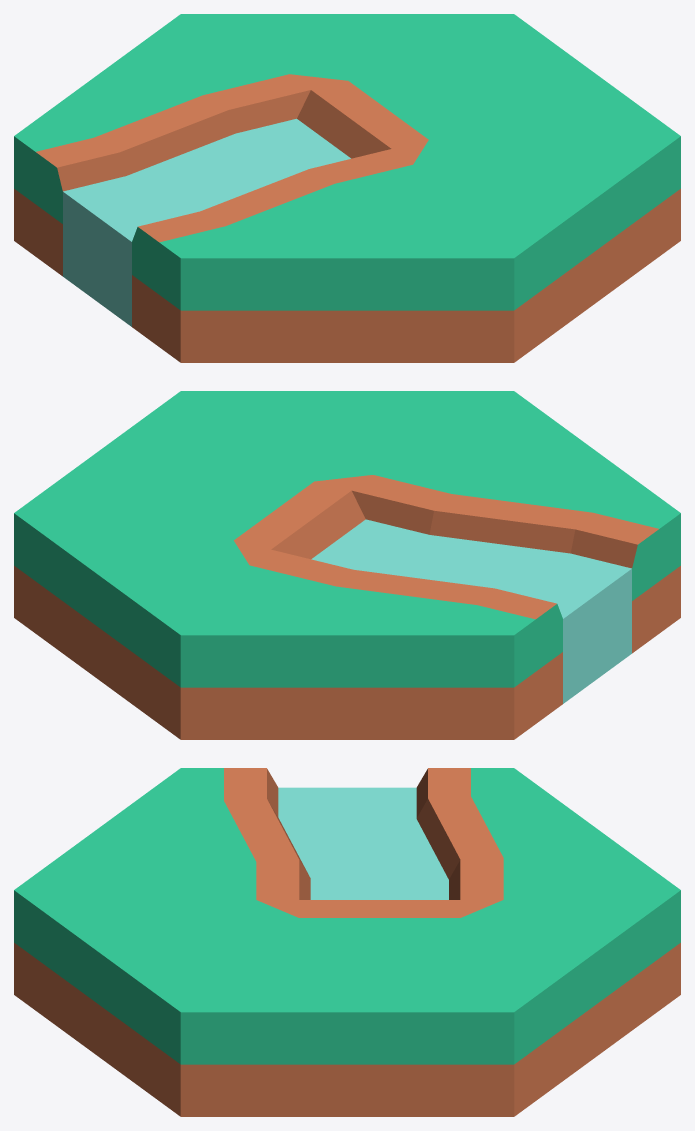
Rendered from river_end.fbx.
3 renders of one model, top to bottom at view 1: azimuth 30°, elevation 25°; view 2: azimuth 150°, elevation 25°; view 3: azimuth 270°, elevation 25°, orthographic.
Parts seen in each view (by area): view 1: river_end; view 2: river_end; view 3: river_end.
Part boxes in pixels (x1=…): river_end: x1=14, y1=14, x2=680, y2=362; river_end: x1=14, y1=391, x2=680, y2=739; river_end: x1=14, y1=768, x2=680, y2=1116.
Size of the model in its own units: 10 by 2 by 11.55.
